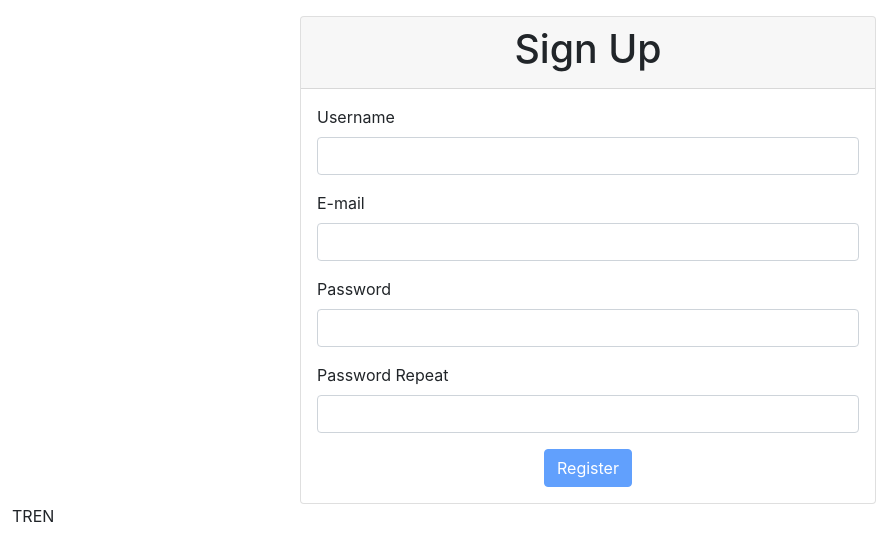
Scenario: Sign Up Page › Internationalization › Displays all text in english after changing back from turkish
The width and height of the screenshot is (893, 543).
Click the text titled "Turkce". click: (22, 516)
box: [12, 506, 33, 526]
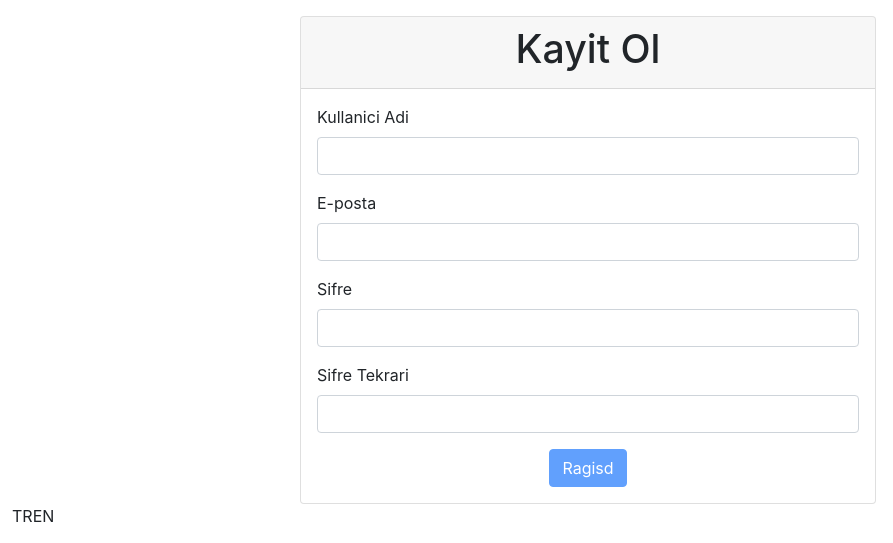
Click the text titled "English". click: (43, 516)
box: [33, 506, 54, 526]
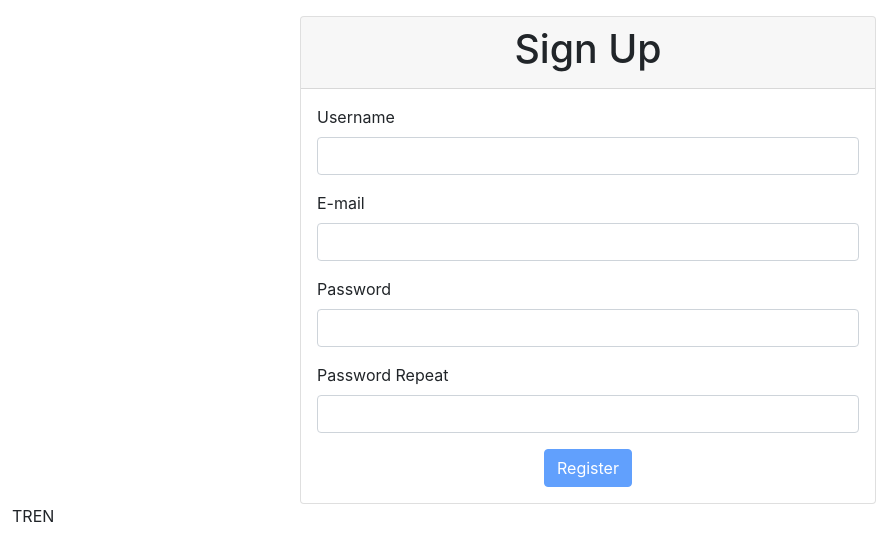
Expected: the button "Register" is shown, [544, 449, 632, 487]
Expected: the heading "Sign Up" is shown, [514, 25, 662, 72]
